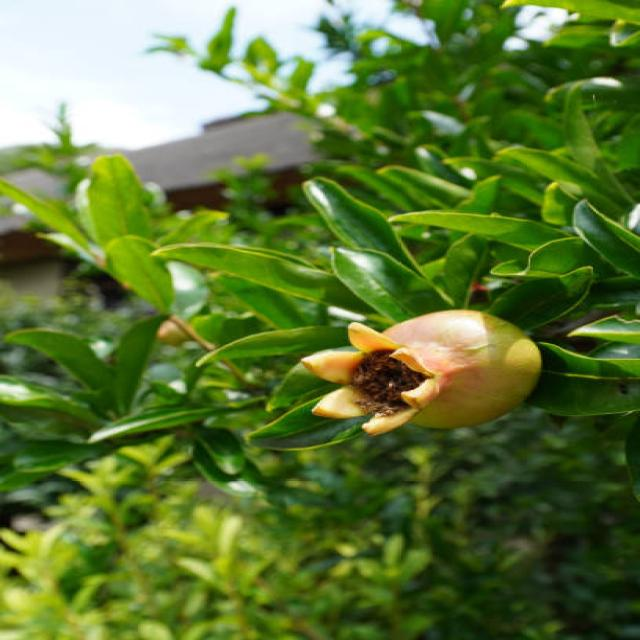Unripe: (300, 305, 540, 436)
